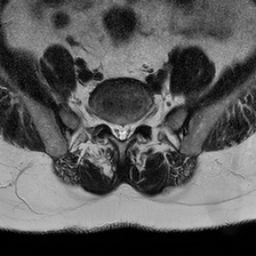CCS_stenosis: (118, 115, 126, 148)
LFS_normal: (134, 108, 142, 133)
LLS_normal: (126, 114, 134, 145)
RFS_stenosis: (102, 109, 110, 134)
RLS_normal: (110, 114, 118, 146)
